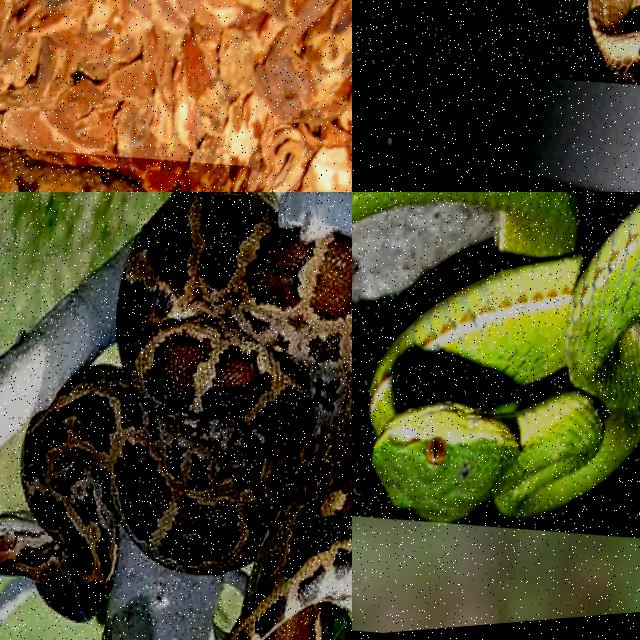Calloselasma rhodostoma: (0, 147, 143, 191)
Naja kaouthia: (587, 0, 639, 83)
Python bivittatus: (0, 192, 351, 639)
Trimeresurus: (352, 192, 639, 521)
snake: (0, 192, 351, 639), (352, 192, 639, 521), (0, 147, 143, 191), (587, 0, 639, 83)
